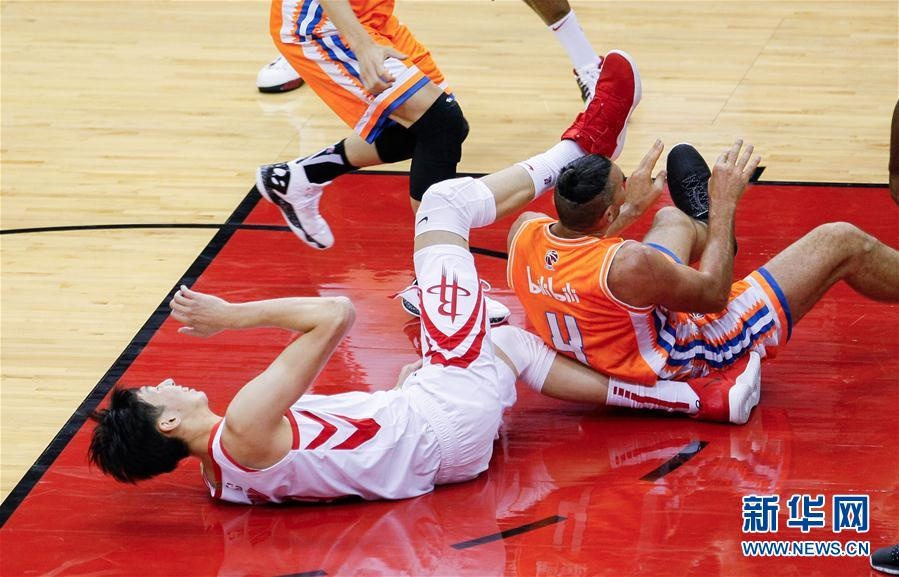falling: (112, 30, 680, 542)
